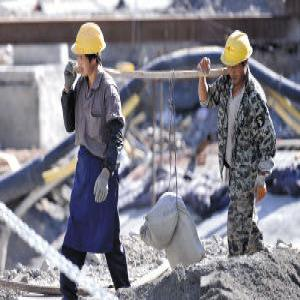yellow: (72, 24, 107, 78), (221, 31, 252, 83)
